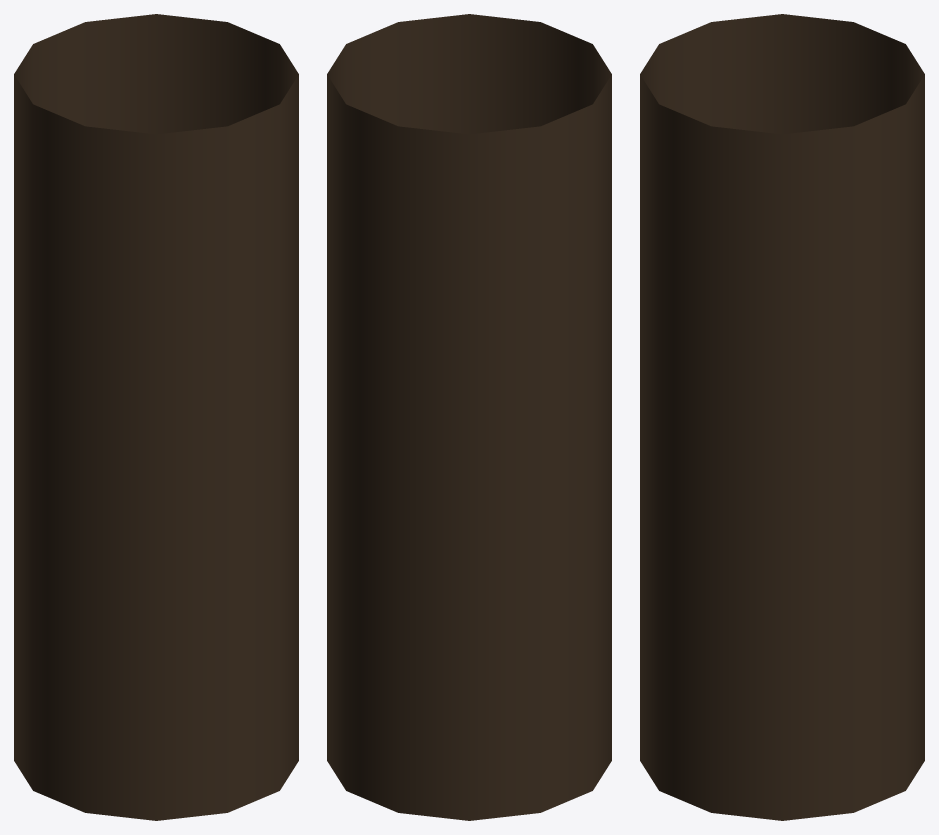
Rendered from RopePiece.glb.
3 views of the same model, side by side, from view 1: azimuth 30°, elevation 25°; view 2: azimuth 150°, elevation 25°; view 3: azimuth 270°, elevation 25° (orthographic).
Parts seen in each view (by area): view 1: BézierCircle.005; view 2: BézierCircle.005; view 3: BézierCircle.005.
Part boxes in pixels (x1,y1,x2,y2): BézierCircle.005: [14, 14, 298, 820]; BézierCircle.005: [327, 14, 611, 820]; BézierCircle.005: [640, 14, 924, 820].
Bounding box in the file's own units: 0.02 × 0.0532 × 0.02.
